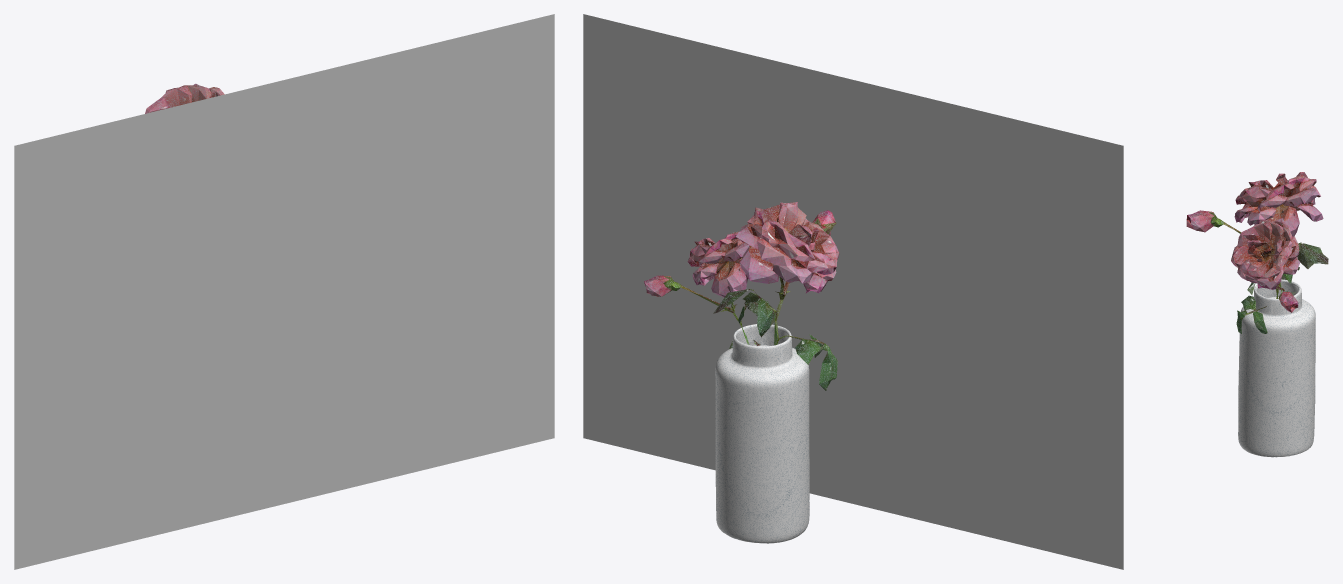
3 views of the same model, side by side, from view 1: azimuth 30°, elevation 25°; view 2: azimuth 150°, elevation 25°; view 3: azimuth 270°, elevation 25° (orthographic). The views are drawn at different scales.
Parts seen in each view (by area): view 1: image_0, skp7235; view 2: image_0, skp20E5, skp7235 (×2); view 3: skp20E5, skp7235 (×2).
Boxes of the visible parts, box(x1,y1,x2,y2) form: image_0: box(14, 14, 554, 569); skp7235: box(145, 83, 224, 113); image_0: box(583, 14, 1123, 569); skp20E5: box(715, 324, 809, 543); skp7235 (×2): box(644, 202, 839, 390); skp20E5: box(1238, 279, 1315, 457); skp7235 (×2): box(1186, 172, 1328, 333).
Bounding box in the file's own units: 55.35 × 19.33 × 41.52.
